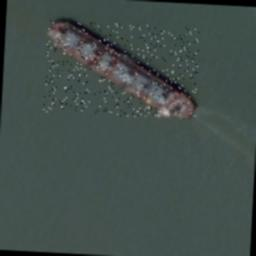boat: (43, 20, 199, 120)
